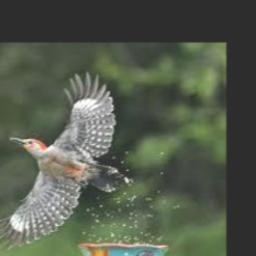Woodpecker: (0, 73, 126, 248)
